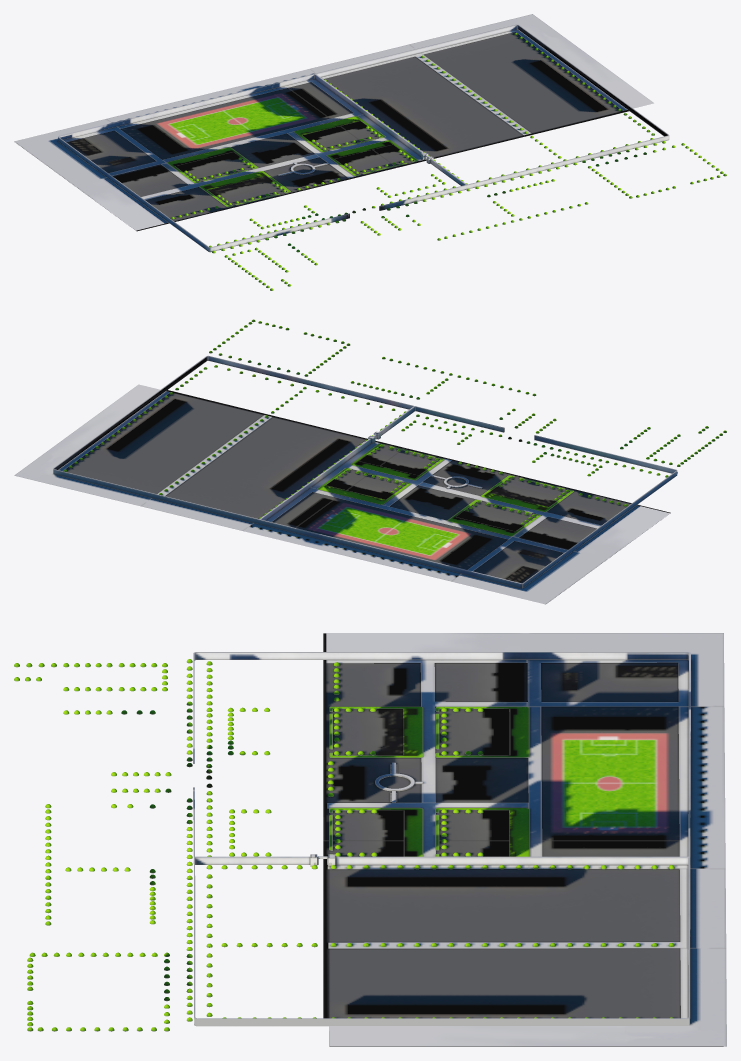
The model's file is diMianB.fbx.
3 renders of one model, top to bottom at view 1: azimuth 30°, elevation 25°; view 2: azimuth 150°, elevation 25°; view 3: azimuth 270°, elevation 25°, orthographic. The views are drawn at different scales.
Visible parts, largest first — view 1: dimianB; view 2: dimianB; view 3: dimianB.
Part boxes in pixels (<box>): dimianB: <box>14,14,726,290</box>; dimianB: <box>14,319,726,604</box>; dimianB: <box>14,633,726,1046</box>.
Bounding box in the file's own units: 671 × 489 × 6.96.
